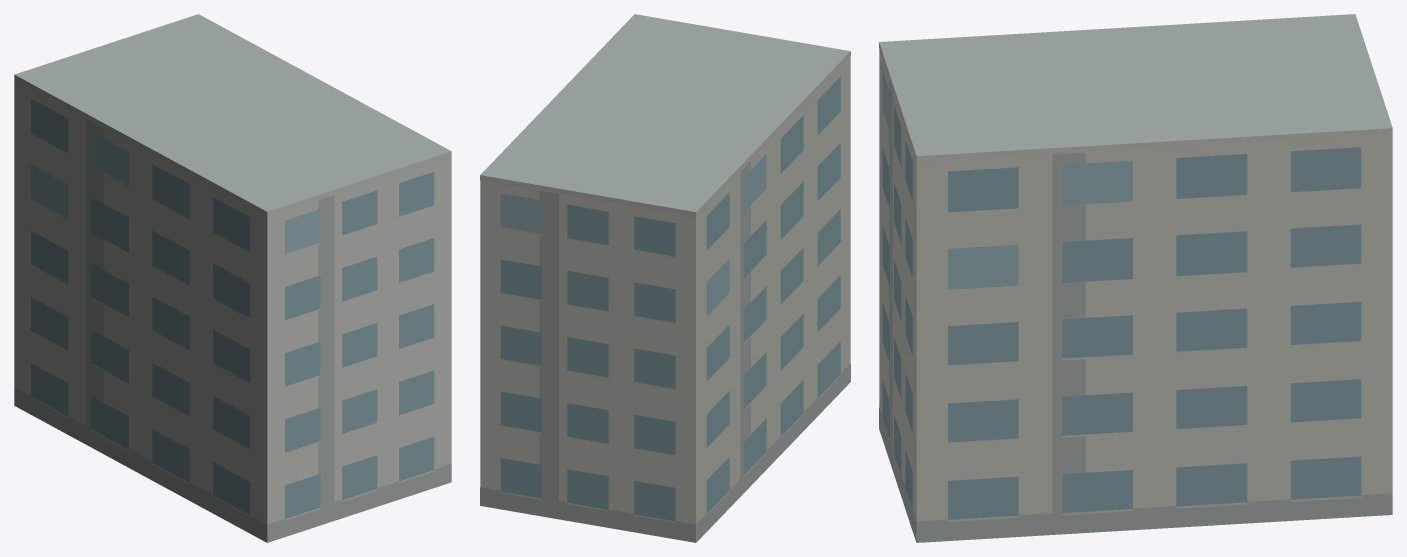
Rendered from residential-384525af-8852-476b-a716-b3ab8aca5f90.glb.
3 views of the same model, side by side, from view 1: azimuth 30°, elevation 25°; view 2: azimuth 150°, elevation 25°; view 3: azimuth 270°, elevation 25° (orthographic). The views are drawn at different scales.
Parts seen in each view (by area): view 1: residential-384525af-8852-476b-a716-b3ab8aca5f90.tmp; view 2: residential-384525af-8852-476b-a716-b3ab8aca5f90.tmp; view 3: residential-384525af-8852-476b-a716-b3ab8aca5f90.tmp.
Part boxes in pixels (x1,y1,x2,y2): residential-384525af-8852-476b-a716-b3ab8aca5f90.tmp: (14, 14, 451, 542); residential-384525af-8852-476b-a716-b3ab8aca5f90.tmp: (480, 14, 850, 542); residential-384525af-8852-476b-a716-b3ab8aca5f90.tmp: (879, 14, 1392, 542).
Size of the model in its own units: 12.03 by 15.25 by 18.37.
